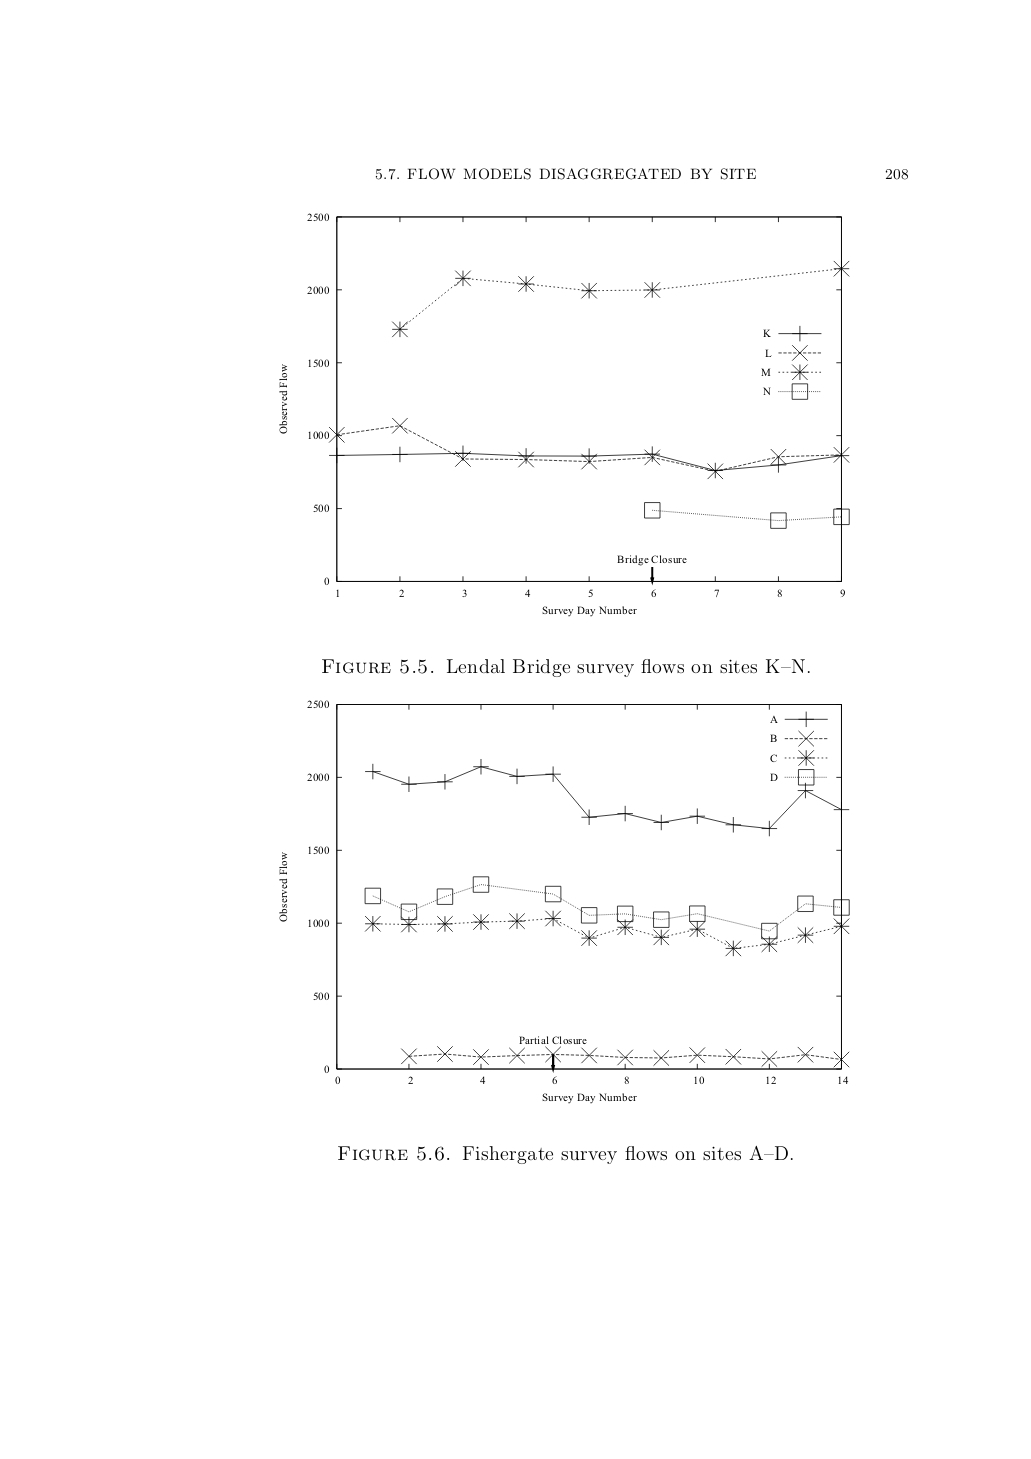figure: (279, 213, 849, 616), (279, 700, 849, 1103)
